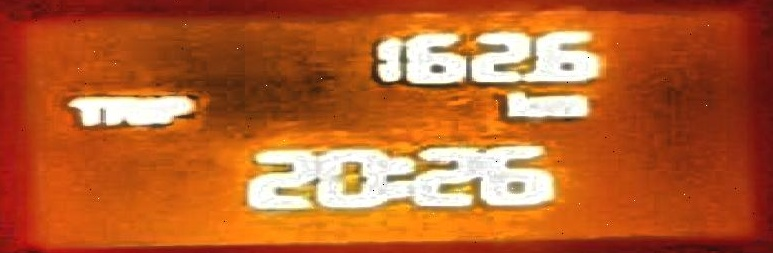-: (520, 65, 538, 85)
0: (318, 144, 382, 208)
1: (371, 33, 402, 83)
2: (242, 147, 311, 211), (413, 143, 478, 207), (467, 27, 531, 83)
6: (478, 142, 553, 208), (538, 29, 607, 82), (403, 32, 465, 83)
X: (540, 92, 591, 121), (385, 151, 411, 202), (102, 94, 138, 129), (160, 93, 198, 126), (67, 94, 102, 128), (505, 87, 540, 119), (138, 93, 160, 128)
